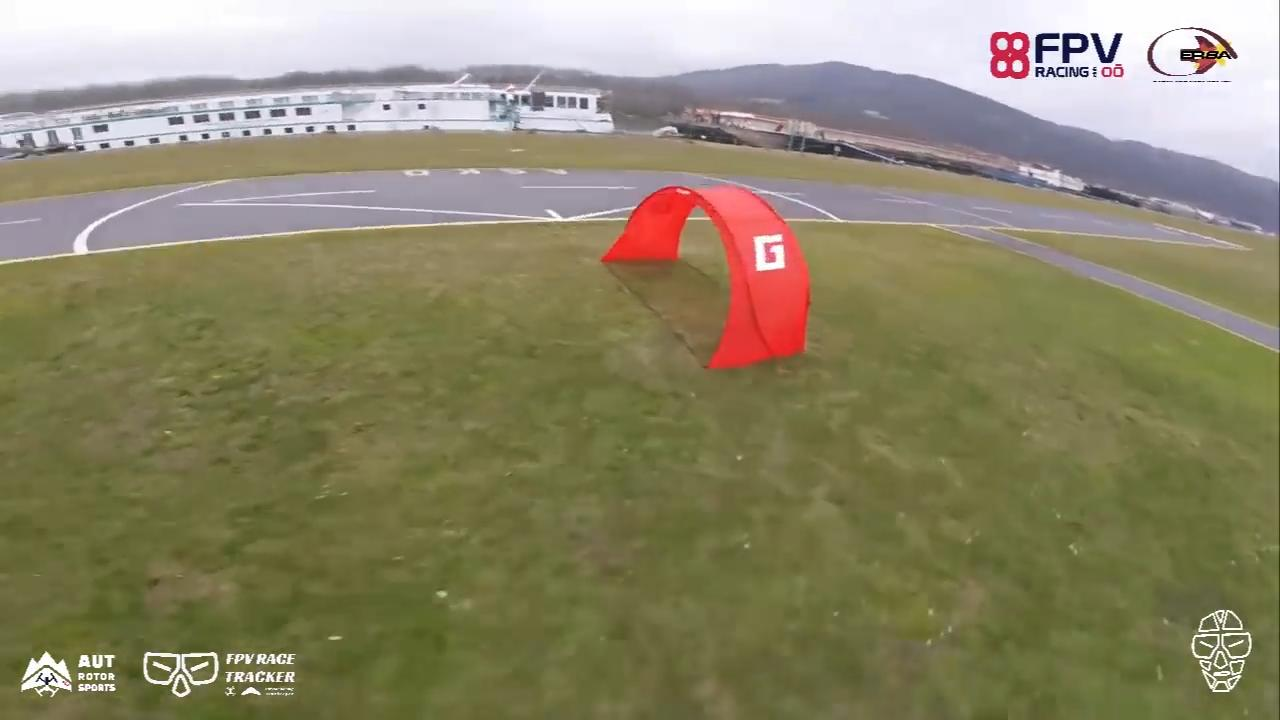gate: (599, 180, 810, 373)
